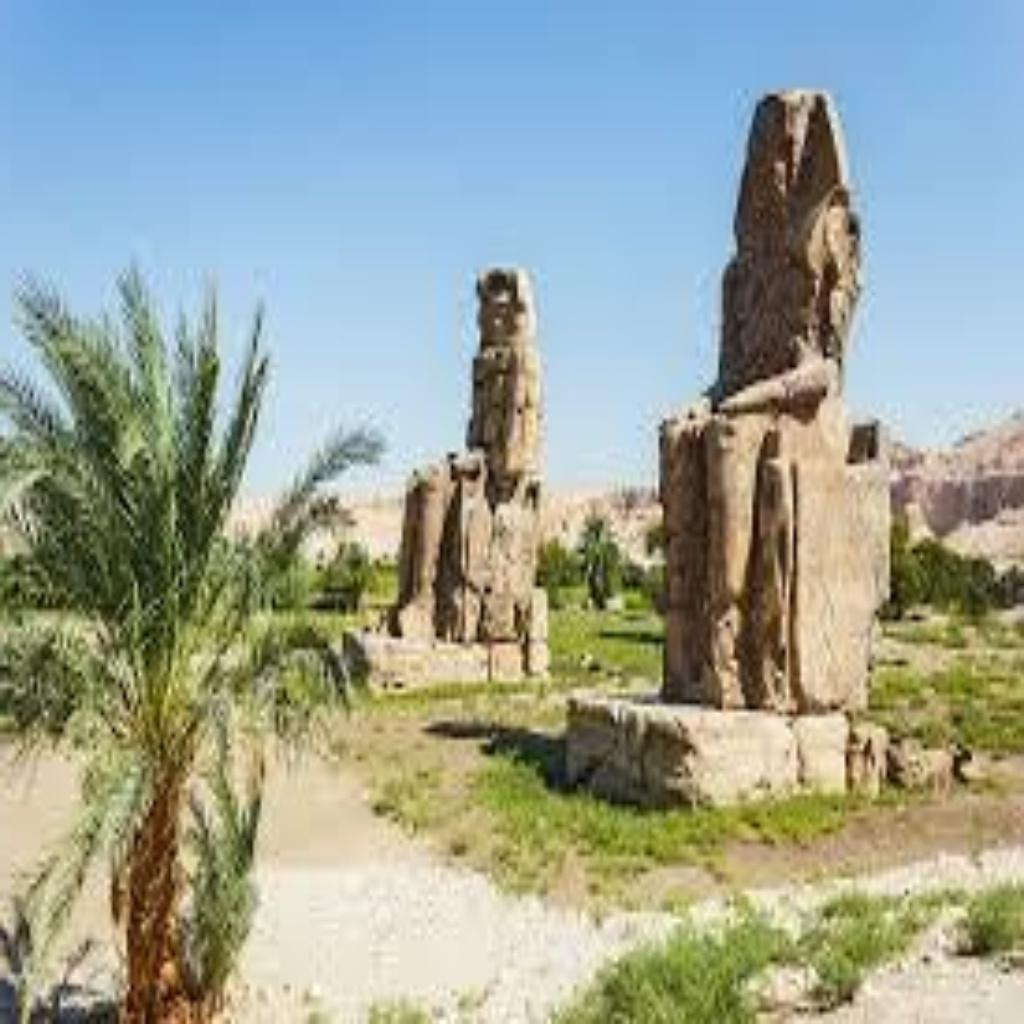Colossoi of Memnon: (652, 78, 898, 716), (358, 256, 556, 648)
